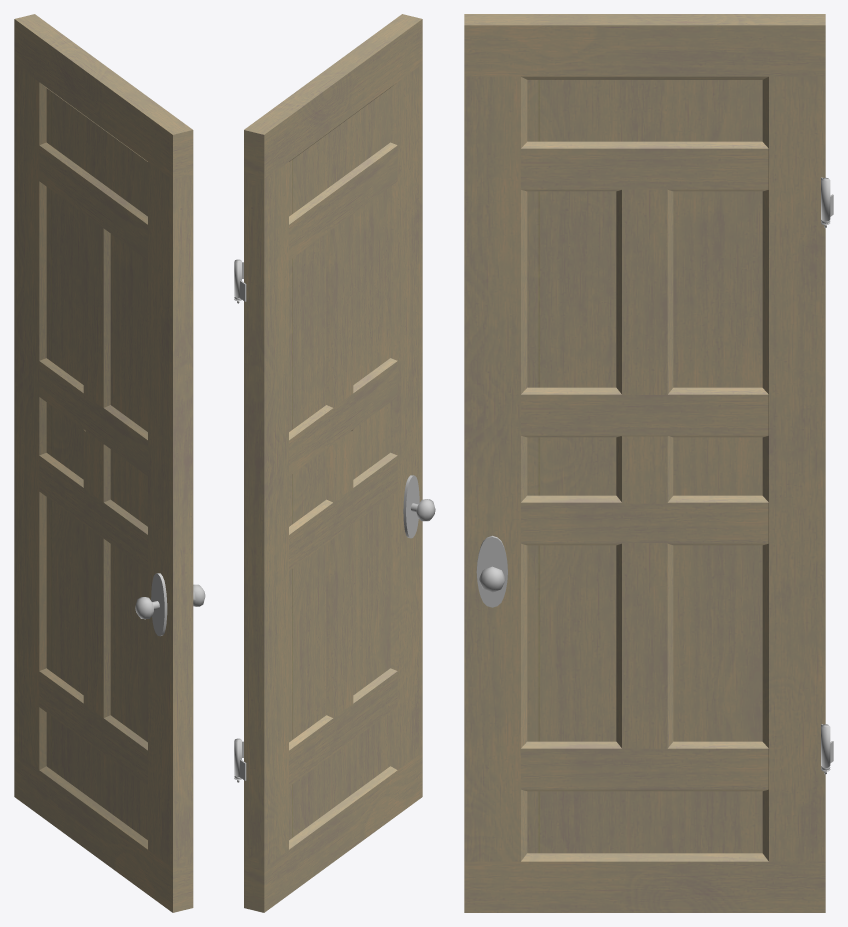
Rendered from SM_WallDoor03G.fbx.
3 renders of one model, left to right at view 1: azimuth 30°, elevation 25°; view 2: azimuth 150°, elevation 25°; view 3: azimuth 270°, elevation 25°, orthographic. The views are drawn at different scales.
Parts seen in each view (by area): view 1: SM_WallDoor03G; view 2: SM_WallDoor03G; view 3: SM_WallDoor03G.
Boxes of the visible parts, x1=… form: SM_WallDoor03G: x1=14, y1=14, x2=205, y2=912; SM_WallDoor03G: x1=234, y1=14, x2=435, y2=912; SM_WallDoor03G: x1=464, y1=14, x2=833, y2=912.
Size of the model in its own units: 19.02 by 80.34 by 213.
